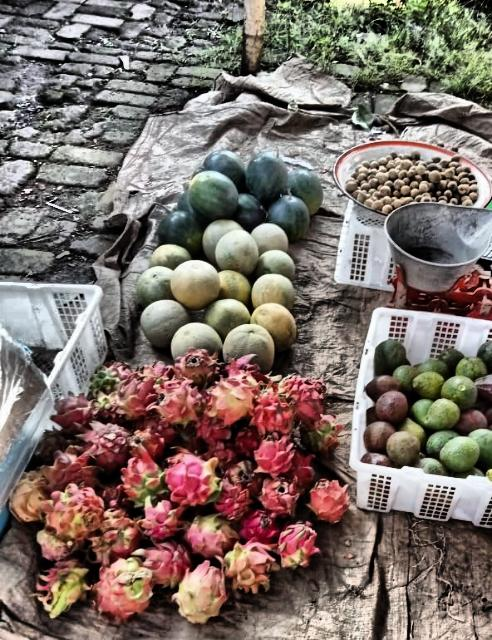buah-naga-belum-matang: (93, 558, 149, 620), (226, 544, 286, 600), (174, 563, 230, 621), (36, 558, 92, 614), (167, 452, 221, 503), (42, 490, 101, 534), (203, 376, 257, 422), (92, 510, 138, 558), (187, 512, 237, 554), (123, 455, 165, 505), (154, 384, 202, 426), (298, 416, 342, 454), (281, 525, 316, 569)
buah-naga-matang: (280, 374, 330, 426), (79, 420, 130, 464), (46, 446, 96, 490), (137, 543, 187, 581), (309, 477, 349, 521), (112, 379, 156, 418), (254, 394, 296, 434), (139, 502, 183, 540), (173, 349, 220, 383), (257, 478, 299, 516), (216, 478, 251, 520), (254, 438, 296, 472), (237, 508, 281, 540), (50, 395, 94, 421), (128, 428, 166, 457), (204, 442, 240, 463), (237, 430, 259, 456)
